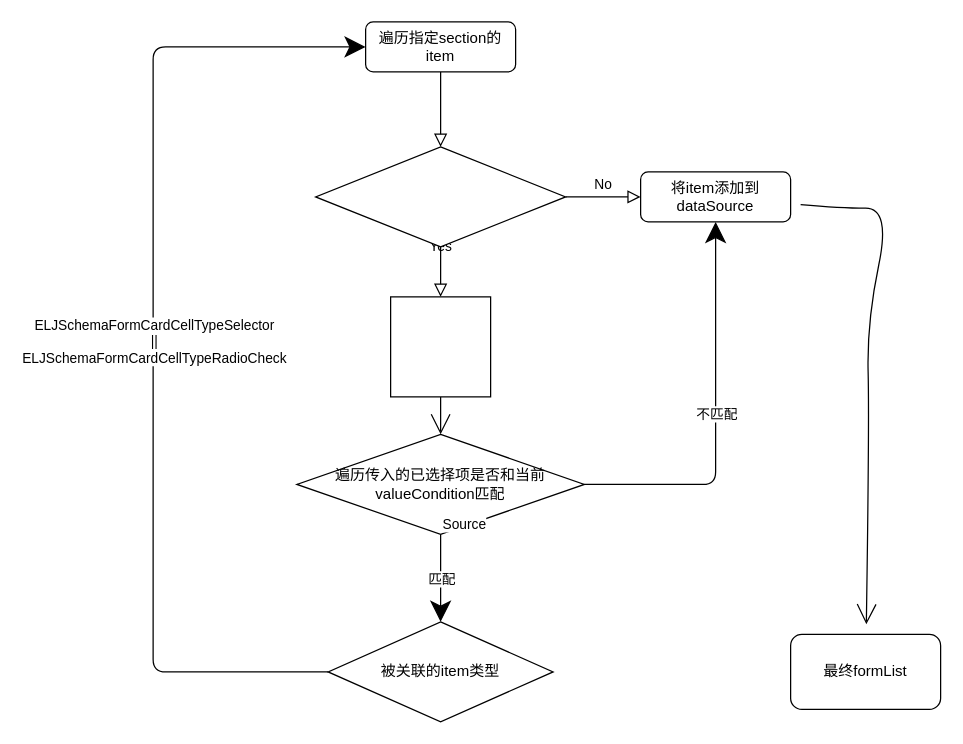
The diagram is 963 pixels wide and 744 high, and some of its shapes have lost their labels. The box of each missing label's shape, as (x1, y1, x2, y2) in pixels:
type == 101 && relativeFormId关联的formId: (314, 146, 566, 247)
遍历当前item的dynamicConfig.configList: (389, 296, 491, 397)
